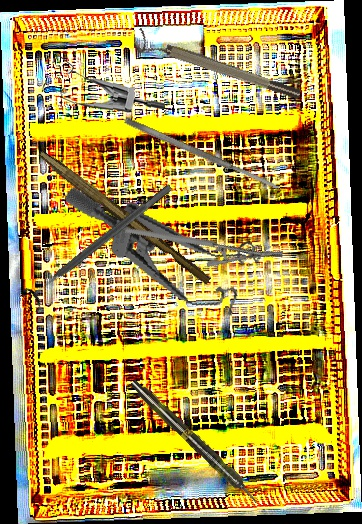Fixation Ring: (18, 175, 180, 314), (131, 27, 303, 110)
Handpiece: (127, 376, 262, 508)
Needle Holder: (124, 180, 286, 304)
Scalpel Handle: (33, 149, 215, 286)
Spatula Surgical: (122, 115, 283, 194)
Speculum: (47, 185, 273, 322), (40, 49, 166, 118)
